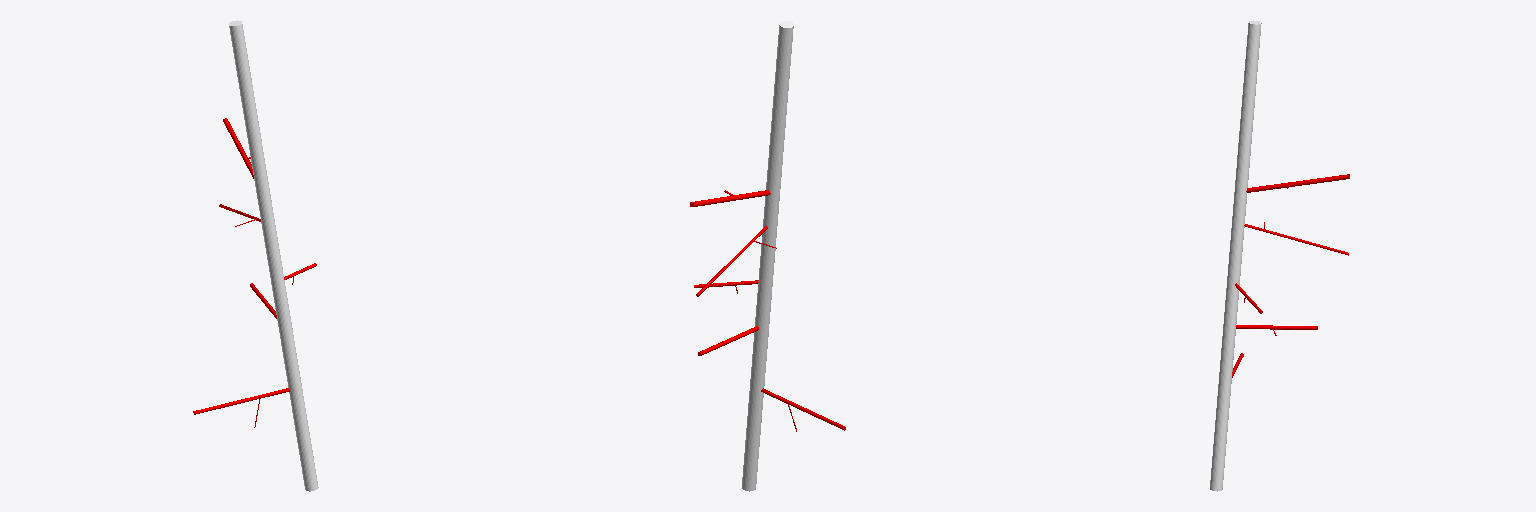
robot.urdf — tree_149.urdf:
<?xml version='1.0' encoding='UTF-8'?>
<robot name="tree_149.urdf">
  <link name="branch_0">
    <inertial>
      <origin xyz="0.0 0.0 0.0" rpy="0.0 -0.0 0.0"/>
      <mass value="0.1"/>
      <inertia ixx="0.001" ixy="0.0" ixz="0.0" iyy="0.001" iyz="0.0" izz="0.001"/>
    </inertial>
    <visual name="branch_0_visual">
      <geometry>
        <cylinder radius="0.1279680661391714" length="9.68809773122782"/>
      </geometry>
      <material name="branch_material"/>
      <origin xyz="-0.6038059522845898 0.3826397103910747 4.7910139465955375" rpy="-2.344441488609545e-17 0.148111483237556 2.5767522967989347"/>
    </visual>
    <collision name="branch_0_collision">
      <geometry>
        <cylinder radius="0.1279680661391714" length="9.68809773122782"/>
      </geometry>
      <origin xyz="-0.6038059522845898 0.3826397103910747 4.7910139465955375" rpy="-2.344441488609545e-17 0.148111483237556 2.5767522967989347"/>
    </collision>
  </link>
  <link name="branch_1">
    <inertial>
      <origin xyz="0.0 0.0 0.0" rpy="0.0 -0.0 0.0"/>
      <mass value="0.1"/>
      <inertia ixx="0.001" ixy="0.0" ixz="0.0" iyy="0.001" iyz="0.0" izz="0.001"/>
    </inertial>
    <visual name="branch_1_visual">
      <geometry>
        <cylinder radius="0.035481240439965846" length="2.0290602652722822"/>
      </geometry>
      <material name="semantic_material"/>
      <origin xyz="0.0 0.0 0.0" rpy="0.0 -0.0 0.0"/>
    </visual>
    <collision name="branch_1_collision">
      <geometry>
        <cylinder radius="0.035481240439965846" length="2.0290602652722822"/>
      </geometry>
      <origin xyz="0.0 0.0 0.0" rpy="0.0 -0.0 0.0"/>
    </collision>
  </link>
  <link name="branch_2">
    <inertial>
      <origin xyz="0.0 0.0 0.0" rpy="0.0 -0.0 0.0"/>
      <mass value="0.1"/>
      <inertia ixx="0.001" ixy="0.0" ixz="0.0" iyy="0.001" iyz="0.0" izz="0.001"/>
    </inertial>
    <visual name="branch_2_visual">
      <geometry>
        <cylinder radius="0.01" length="0.6020110745257413"/>
      </geometry>
      <material name="semantic_material"/>
      <origin xyz="0.0 0.0 0.0" rpy="0.0 -0.0 0.0"/>
    </visual>
    <collision name="branch_2_collision">
      <geometry>
        <cylinder radius="0.01" length="0.6020110745257413"/>
      </geometry>
      <origin xyz="0.0 0.0 0.0" rpy="0.0 -0.0 0.0"/>
    </collision>
  </link>
  <link name="branch_3">
    <inertial>
      <origin xyz="0.0 0.0 0.0" rpy="0.0 -0.0 0.0"/>
      <mass value="0.1"/>
      <inertia ixx="0.001" ixy="0.0" ixz="0.0" iyy="0.001" iyz="0.0" izz="0.001"/>
    </inertial>
    <visual name="branch_3_visual">
      <geometry>
        <cylinder radius="0.04000150087295211" length="1.7563312819171255"/>
      </geometry>
      <material name="semantic_material"/>
      <origin xyz="0.0 0.0 0.0" rpy="0.0 -0.0 0.0"/>
    </visual>
    <collision name="branch_3_collision">
      <geometry>
        <cylinder radius="0.04000150087295211" length="1.7563312819171255"/>
      </geometry>
      <origin xyz="0.0 0.0 0.0" rpy="0.0 -0.0 0.0"/>
    </collision>
  </link>
  <link name="branch_4">
    <inertial>
      <origin xyz="0.0 0.0 0.0" rpy="0.0 -0.0 0.0"/>
      <mass value="0.1"/>
      <inertia ixx="0.001" ixy="0.0" ixz="0.0" iyy="0.001" iyz="0.0" izz="0.001"/>
    </inertial>
    <visual name="branch_4_visual">
      <geometry>
        <cylinder radius="0.01" length="0.20338740882906178"/>
      </geometry>
      <material name="semantic_material"/>
      <origin xyz="0.0 0.0 0.0" rpy="0.0 -0.0 0.0"/>
    </visual>
    <collision name="branch_4_collision">
      <geometry>
        <cylinder radius="0.01" length="0.20338740882906178"/>
      </geometry>
      <origin xyz="0.0 0.0 0.0" rpy="0.0 -0.0 0.0"/>
    </collision>
  </link>
  <link name="branch_5">
    <inertial>
      <origin xyz="0.0 0.0 0.0" rpy="0.0 -0.0 0.0"/>
      <mass value="0.1"/>
      <inertia ixx="0.001" ixy="0.0" ixz="0.0" iyy="0.001" iyz="0.0" izz="0.001"/>
    </inertial>
    <visual name="branch_5_visual">
      <geometry>
        <cylinder radius="0.048322715059931784" length="2.2374924954001307"/>
      </geometry>
      <material name="semantic_material"/>
      <origin xyz="0.0 0.0 0.0" rpy="0.0 -0.0 0.0"/>
    </visual>
    <collision name="branch_5_collision">
      <geometry>
        <cylinder radius="0.048322715059931784" length="2.2374924954001307"/>
      </geometry>
      <origin xyz="0.0 0.0 0.0" rpy="0.0 -0.0 0.0"/>
    </collision>
  </link>
  <link name="branch_6">
    <inertial>
      <origin xyz="0.0 0.0 0.0" rpy="0.0 -0.0 0.0"/>
      <mass value="0.1"/>
      <inertia ixx="0.001" ixy="0.0" ixz="0.0" iyy="0.001" iyz="0.0" izz="0.001"/>
    </inertial>
    <visual name="branch_6_visual">
      <geometry>
        <cylinder radius="0.018318512957711468" length="0.26566051991274425"/>
      </geometry>
      <material name="semantic_material"/>
      <origin xyz="0.0 0.0 0.0" rpy="0.0 -0.0 0.0"/>
    </visual>
    <collision name="branch_6_collision">
      <geometry>
        <cylinder radius="0.018318512957711468" length="0.26566051991274425"/>
      </geometry>
      <origin xyz="0.0 0.0 0.0" rpy="0.0 -0.0 0.0"/>
    </collision>
  </link>
  <link name="branch_7">
    <inertial>
      <origin xyz="0.0 0.0 0.0" rpy="0.0 -0.0 0.0"/>
      <mass value="0.1"/>
      <inertia ixx="0.001" ixy="0.0" ixz="0.0" iyy="0.001" iyz="0.0" izz="0.001"/>
    </inertial>
    <visual name="branch_7_visual">
      <geometry>
        <cylinder radius="0.02802032400106085" length="2.265313870319556"/>
      </geometry>
      <material name="semantic_material"/>
      <origin xyz="0.0 0.0 0.0" rpy="0.0 -0.0 0.0"/>
    </visual>
    <collision name="branch_7_collision">
      <geometry>
        <cylinder radius="0.02802032400106085" length="2.265313870319556"/>
      </geometry>
      <origin xyz="0.0 0.0 0.0" rpy="0.0 -0.0 0.0"/>
    </collision>
  </link>
  <link name="branch_8">
    <inertial>
      <origin xyz="0.0 0.0 0.0" rpy="0.0 -0.0 0.0"/>
      <mass value="0.1"/>
      <inertia ixx="0.001" ixy="0.0" ixz="0.0" iyy="0.001" iyz="0.0" izz="0.001"/>
    </inertial>
    <visual name="branch_8_visual">
      <geometry>
        <cylinder radius="0.01" length="0.4743036230198652"/>
      </geometry>
      <material name="semantic_material"/>
      <origin xyz="0.0 0.0 0.0" rpy="0.0 -0.0 0.0"/>
    </visual>
    <collision name="branch_8_collision">
      <geometry>
        <cylinder radius="0.01" length="0.4743036230198652"/>
      </geometry>
      <origin xyz="0.0 0.0 0.0" rpy="0.0 -0.0 0.0"/>
    </collision>
  </link>
  <link name="branch_9">
    <inertial>
      <origin xyz="0.0 0.0 0.0" rpy="0.0 -0.0 0.0"/>
      <mass value="0.1"/>
      <inertia ixx="0.001" ixy="0.0" ixz="0.0" iyy="0.001" iyz="0.0" izz="0.001"/>
    </inertial>
    <visual name="branch_9_visual">
      <geometry>
        <cylinder radius="0.03289182295589936" length="1.263381741854281"/>
      </geometry>
      <material name="semantic_material"/>
      <origin xyz="0.0 0.0 0.0" rpy="0.0 -0.0 0.0"/>
    </visual>
    <collision name="branch_9_collision">
      <geometry>
        <cylinder radius="0.03289182295589936" length="1.263381741854281"/>
      </geometry>
      <origin xyz="0.0 0.0 0.0" rpy="0.0 -0.0 0.0"/>
    </collision>
  </link>
  <link name="branch_10">
    <inertial>
      <origin xyz="0.0 0.0 0.0" rpy="0.0 -0.0 0.0"/>
      <mass value="0.1"/>
      <inertia ixx="0.001" ixy="0.0" ixz="0.0" iyy="0.001" iyz="0.0" izz="0.001"/>
    </inertial>
    <visual name="branch_10_visual">
      <geometry>
        <cylinder radius="0.01" length="0.1984173699324464"/>
      </geometry>
      <material name="semantic_material"/>
      <origin xyz="0.0 0.0 0.0" rpy="0.0 -0.0 0.0"/>
    </visual>
    <collision name="branch_10_collision">
      <geometry>
        <cylinder radius="0.01" length="0.1984173699324464"/>
      </geometry>
      <origin xyz="0.0 0.0 0.0" rpy="0.0 -0.0 0.0"/>
    </collision>
  </link>
  <joint name="joint_0_1" type="fixed">
    <parent link="branch_0"/>
    <child link="branch_1"/>
    <axis xyz="1. 0. 0."/>
    <origin xyz="-1.2553201696039762 0.3399217274718291 1.9718778026269703" rpy="2.6034519782888923 1.4612641535717739 -0.7147562325254297"/>
  </joint>
  <joint name="joint_0_3" type="fixed">
    <parent link="branch_0"/>
    <child link="branch_3"/>
    <axis xyz="1. 0. 0."/>
    <origin xyz="-0.28557488311292784 1.133136358417303 3.385056113695134" rpy="-1.2024725658694997 1.4245115245848377 0.20990784626634648"/>
  </joint>
  <joint name="joint_0_5" type="fixed">
    <parent link="branch_0"/>
    <child link="branch_5"/>
    <axis xyz="1. 0. 0."/>
    <origin xyz="-0.5624567226737724 1.5568356022058452 6.374494781882671" rpy="-0.5428324423946687 1.2976527295811153 0.8185134355379386"/>
  </joint>
  <joint name="joint_0_7" type="fixed">
    <parent link="branch_0"/>
    <child link="branch_7"/>
    <axis xyz="1. 0. 0."/>
    <origin xyz="-0.5757543262844423 1.5269614222739694 5.178703845228908" rpy="-2.662835510043739 1.2844501338909076 -1.1778027169171312"/>
  </joint>
  <joint name="joint_0_9" type="fixed">
    <parent link="branch_0"/>
    <child link="branch_9"/>
    <axis xyz="1. 0. 0."/>
    <origin xyz="0.026963412090831904 0.6163987343515057 4.191956850559233" rpy="-2.279962450879993 1.4024027470605187 -1.8176620461010409"/>
  </joint>
  <joint name="joint_1_2" type="fixed">
    <parent link="branch_0"/>
    <child link="branch_2"/>
    <axis xyz="1. 0. 0."/>
    <origin xyz="-1.0276923680190508 0.2530075852306425 1.7122222295240992" rpy="2.974833630937898 0.23186488237063543 -0.22806020542664515"/>
  </joint>
  <joint name="joint_3_4" type="fixed">
    <parent link="branch_0"/>
    <child link="branch_4"/>
    <axis xyz="1. 0. 0."/>
    <origin xyz="-0.21961163713921888 1.142771224604313 3.3221718770539095" rpy="-2.2777595621889075 0.3826727904219461 -1.3658592620094192"/>
  </joint>
  <joint name="joint_5_6" type="fixed">
    <parent link="branch_0"/>
    <child link="branch_6"/>
    <axis xyz="1. 0. 0."/>
    <origin xyz="-0.4543598269562935 1.43203230582616 6.376182187523639" rpy="-1.3615217799068156 0.21703868057554018 -1.6823168397272654"/>
  </joint>
  <joint name="joint_7_8" type="fixed">
    <parent link="branch_0"/>
    <child link="branch_8"/>
    <axis xyz="1. 0. 0."/>
    <origin xyz="-0.8703126903013685 0.9544089366827571 5.306946092852464" rpy="1.6522335142086024 -0.2643826637360735 -1.5564452275052278"/>
  </joint>
  <joint name="joint_9_10" type="fixed">
    <parent link="branch_0"/>
    <child link="branch_10"/>
    <axis xyz="1. 0. 0."/>
    <origin xyz="-0.0726450091385625 0.5653472935650481 4.105331003745725" rpy="-3.1202159831094085 -0.2414735762816335 -2.6891579498328446"/>
  </joint>
  <material name="branch_material">
    <color rgba="1. 1. 1. 1."/>
  </material>
  <material name="semantic_material">
    <color rgba="1. 0. 0. 1."/>
  </material>
</robot>

--- Render facts (derived) ---
The picture shows the robot from 3 angles, left to right: view 1: azimuth 30°, elevation 25°; view 2: azimuth 150°, elevation 25°; view 3: azimuth 270°, elevation 25°; orthographic projection.
Robot: tree_149.urdf — 11 links, 10 joints (10 fixed); root link branch_0; default pose: all joints at 0.
Visible links, largest first — view 1: branch_0; view 2: branch_0; view 3: branch_0.
Link boxes in pixels (<box>): branch_0: <box>229,20,318,491</box>; branch_0: <box>742,21,793,491</box>; branch_0: <box>1210,20,1261,491</box>.
Bounding box of the posed robot: 2.86 × 2.77 × 9.62 m (x, y, z).
Geometry: primitives only (box / cylinder / sphere), no mesh files.
